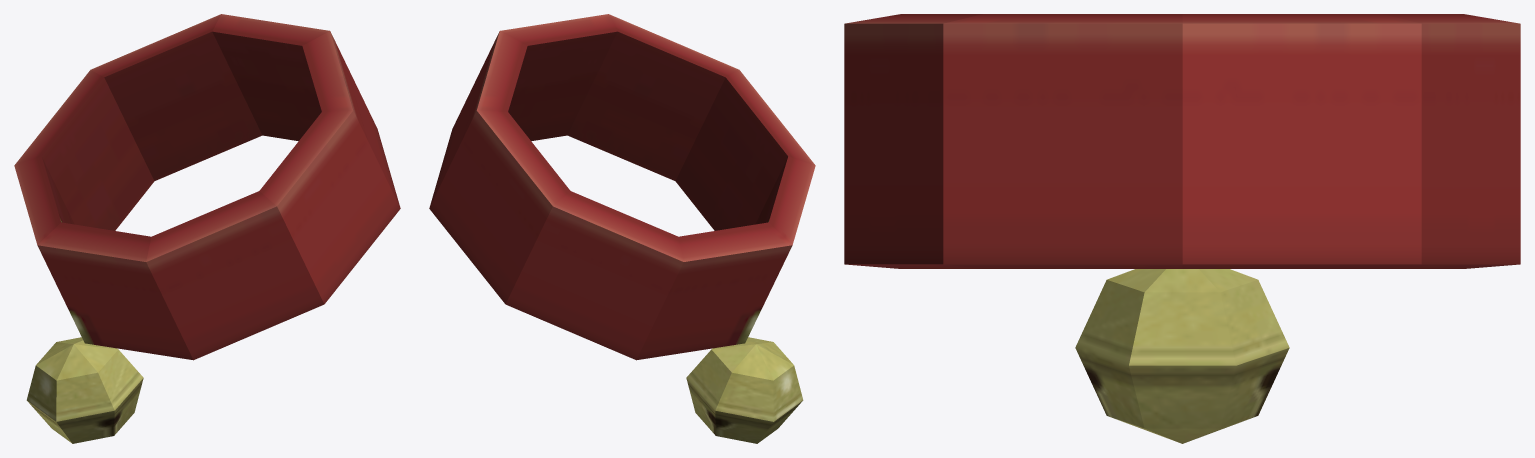
File: Cat_catBell.obj
3 views of the same model, side by side, from view 1: azimuth 30°, elevation 25°; view 2: azimuth 150°, elevation 25°; view 3: azimuth 270°, elevation 25° (orthographic). The views are drawn at different scales.
Parts seen in each view (by area): view 1: Cat_catBell_tri; view 2: Cat_catBell_tri; view 3: Cat_catBell_tri.
Boxes of the visible parts, bbox=[...] form: Cat_catBell_tri: bbox=[14, 14, 400, 443]; Cat_catBell_tri: bbox=[429, 14, 815, 443]; Cat_catBell_tri: bbox=[844, 14, 1520, 443].
Size of the model in its own units: 0.1402 by 0.1362 by 0.1331.
1 material, 1 textured.
